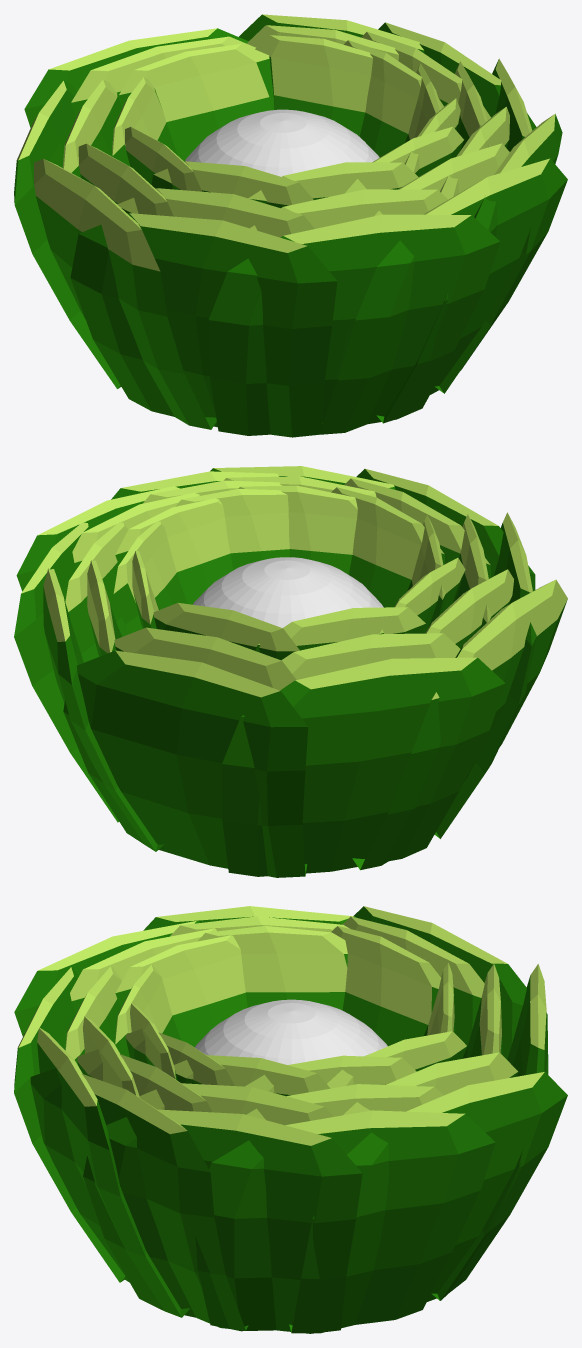
File: Lattice.fbx
3 views of the same model, one above another, from view 1: azimuth 30°, elevation 25°; view 2: azimuth 150°, elevation 25°; view 3: azimuth 270°, elevation 25° (orthographic). The views are drawn at different scales.
Visible parts, largest first — view 1: Cube.020, Sphere; view 2: Cube.020, Sphere; view 3: Cube.020, Sphere.
Boxes of the visible parts, <box> form: Cube.020: <box>14,14,567,437</box>; Sphere: <box>184,109,379,176</box>; Cube.020: <box>14,466,567,877</box>; Sphere: <box>193,557,383,627</box>; Cube.020: <box>14,906,567,1333</box>; Sphere: <box>194,999,387,1064</box>.
Size of the model in its own units: 297 by 167 by 286.
